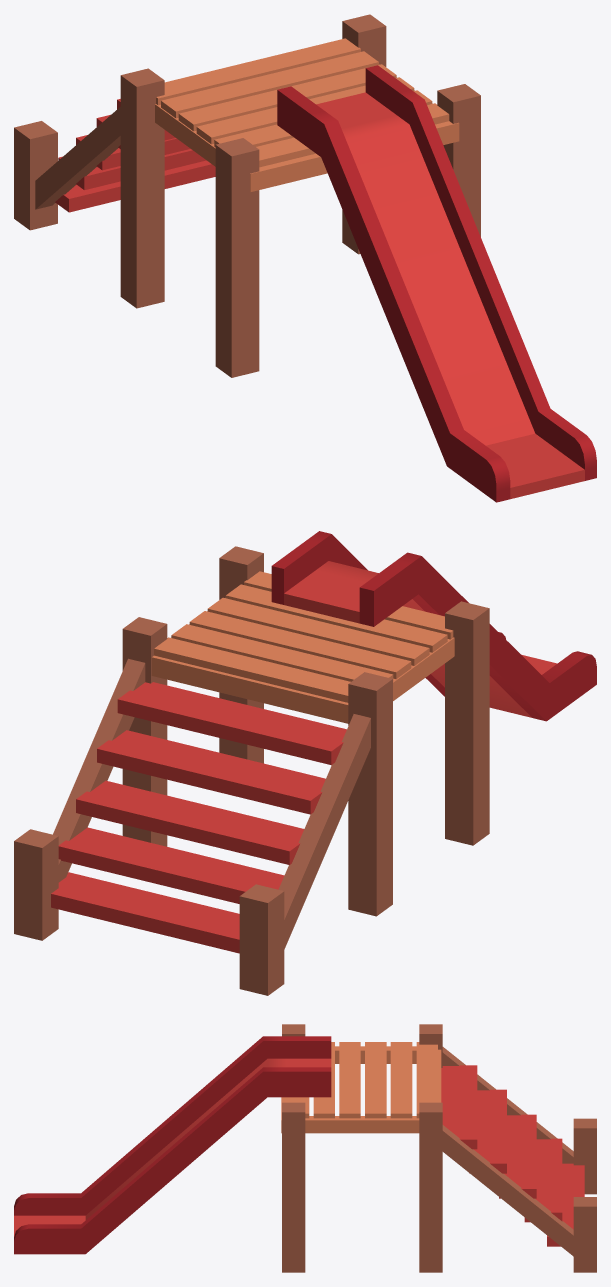
The model's file is Slide_01.fbx.
3 renders of one model, top to bottom at view 1: azimuth 30°, elevation 25°; view 2: azimuth 150°, elevation 25°; view 3: azimuth 270°, elevation 25°, orthographic. The views are drawn at different scales.
Visible parts, largest first — view 1: Slide_01; view 2: Slide_01; view 3: Slide_01.
Boxes of the visible parts, bbox=[...] form: Slide_01: bbox=[14, 14, 596, 502]; Slide_01: bbox=[14, 531, 596, 995]; Slide_01: bbox=[14, 1024, 596, 1272].
Size of the model in its own units: 1.42 by 1.37 by 3.97.
